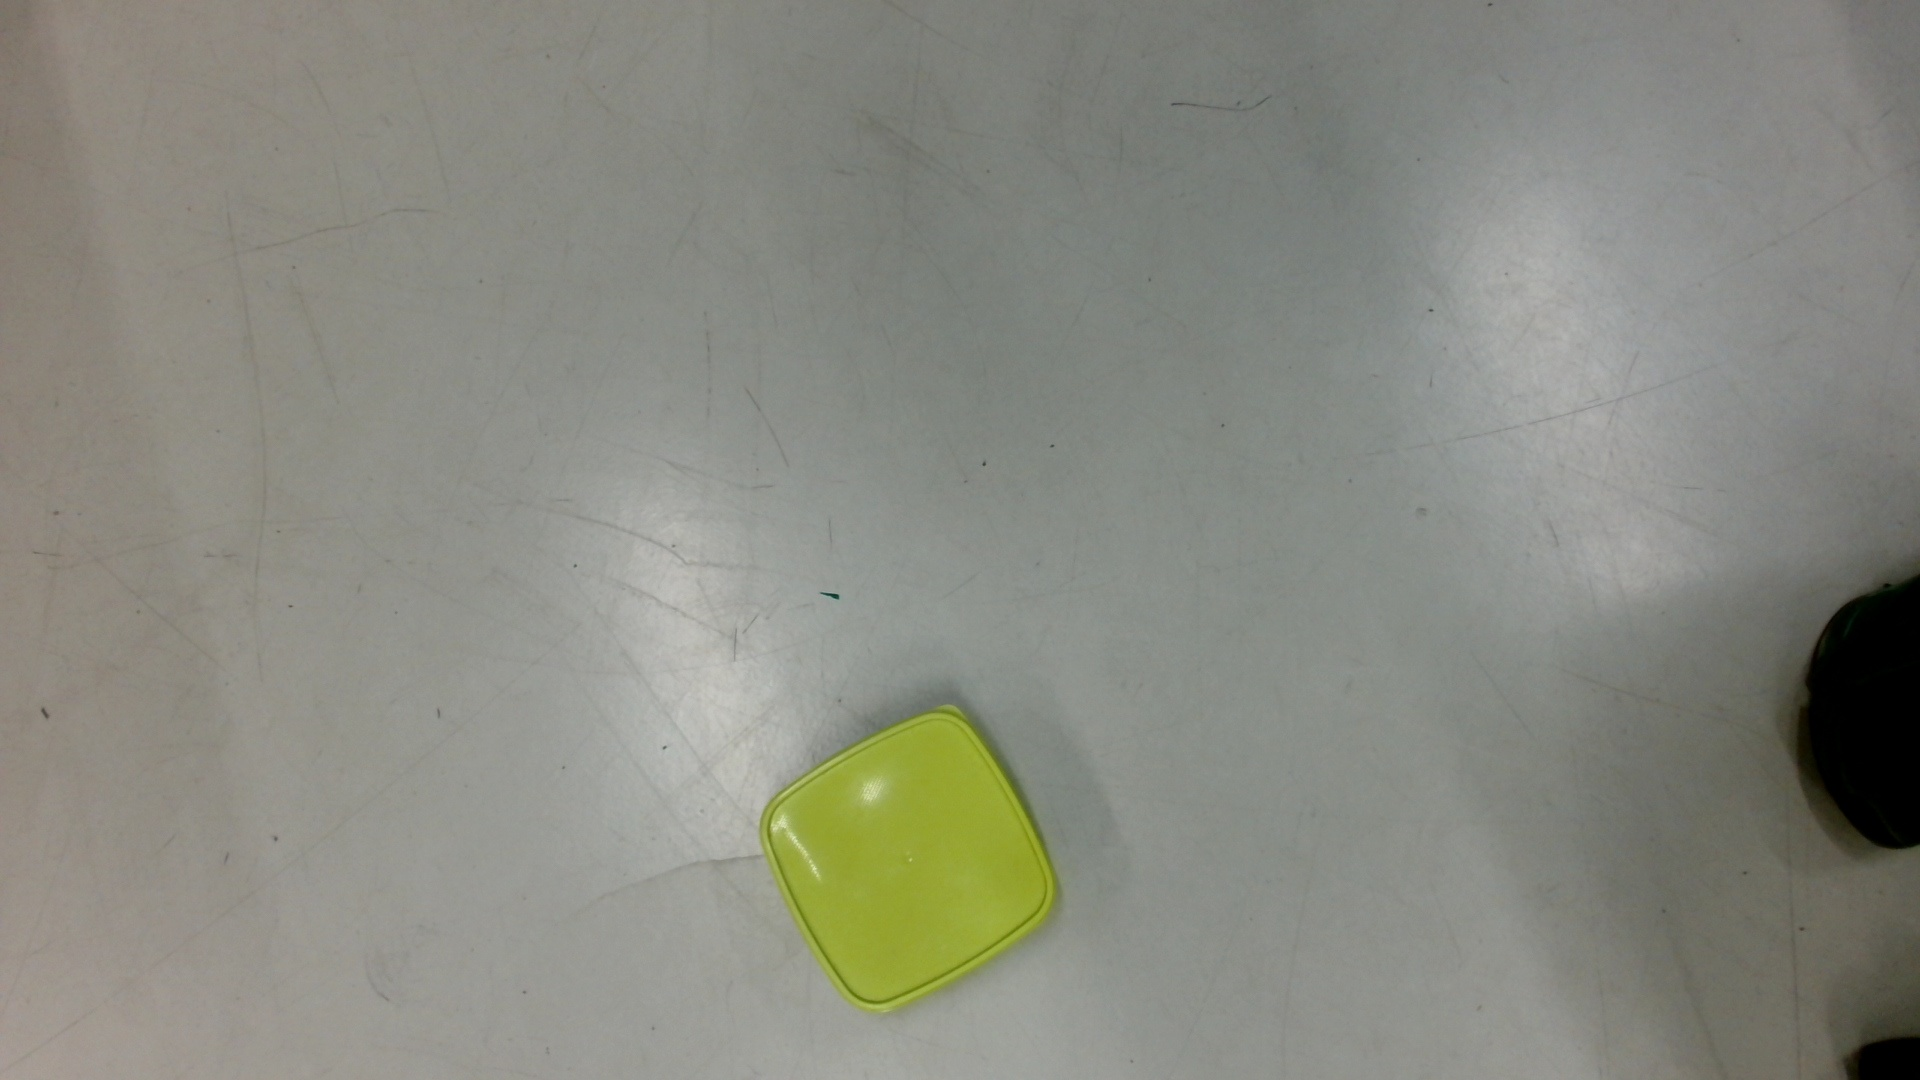Box: (755, 699, 1063, 1019)
